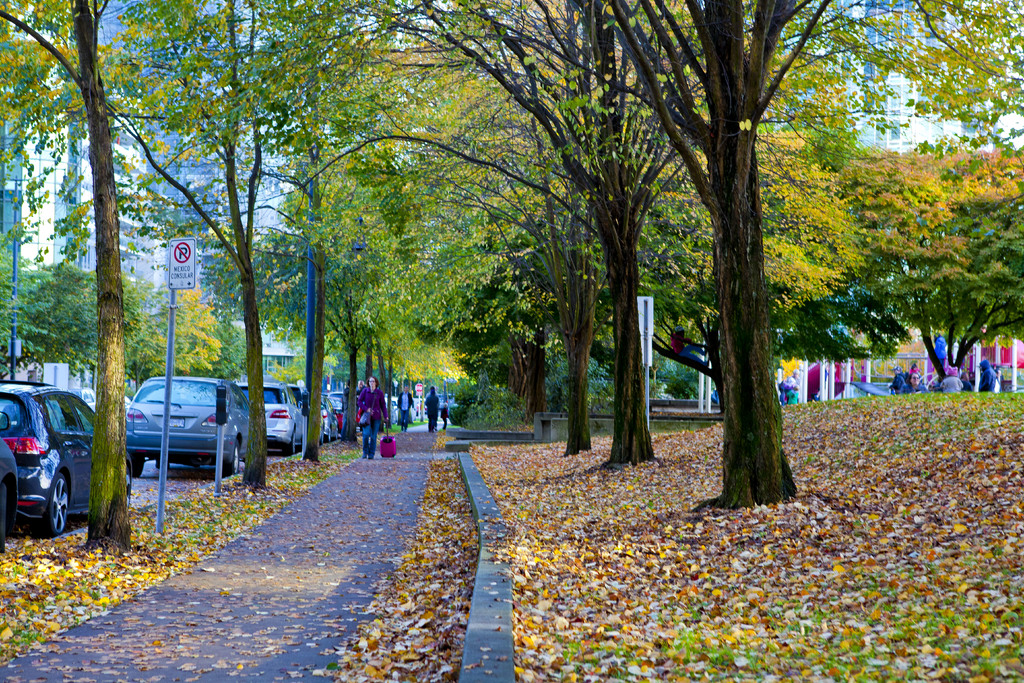Car: (6, 373, 103, 540), (121, 380, 252, 479), (221, 373, 307, 453), (288, 376, 337, 436), (322, 388, 346, 420)
